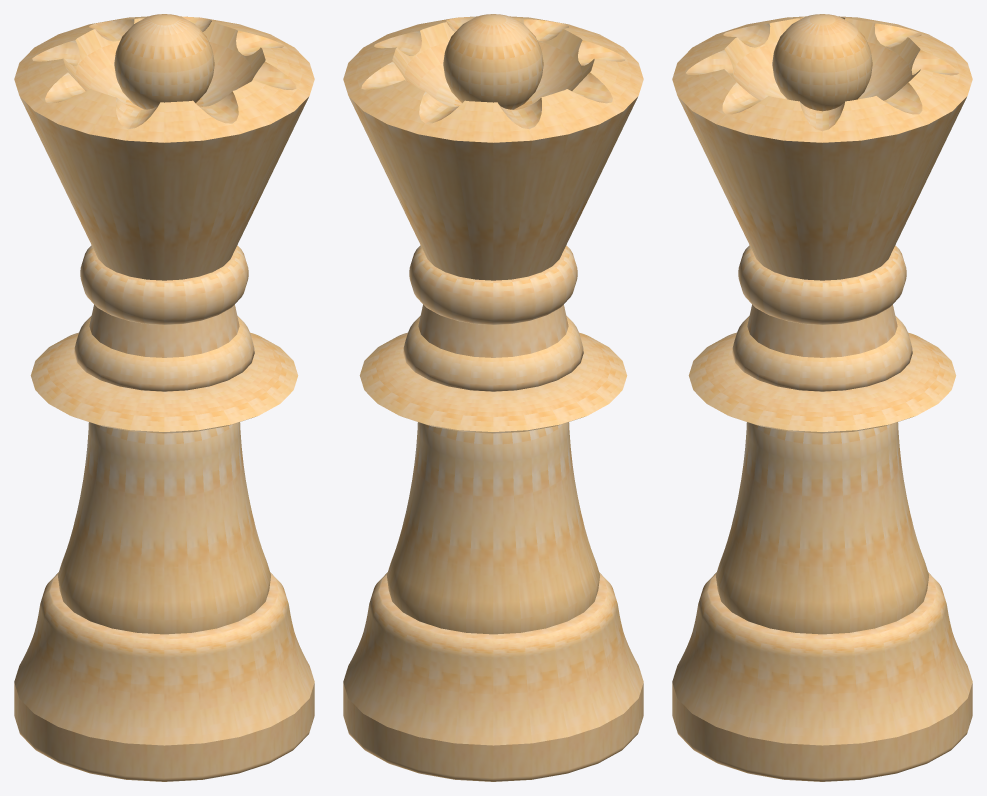
File: Queen_w.dae
3 views of the same model, side by side, from view 1: azimuth 30°, elevation 25°; view 2: azimuth 150°, elevation 25°; view 3: azimuth 270°, elevation 25° (orthographic).
Visible parts, largest first — view 1: SketchUp; view 2: SketchUp; view 3: SketchUp.
Part boxes in pixels (x1,y1,x2,y2): SketchUp: [14, 14, 314, 781]; SketchUp: [343, 14, 643, 781]; SketchUp: [672, 14, 972, 781].
Size of the model in its own units: 23.62 by 23.62 by 60.78.
1 material, 1 textured.
